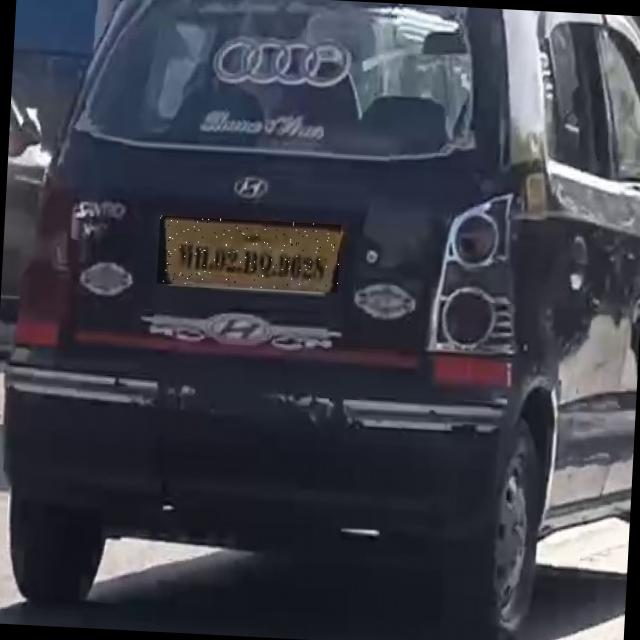Plate: (158, 217, 342, 294)
